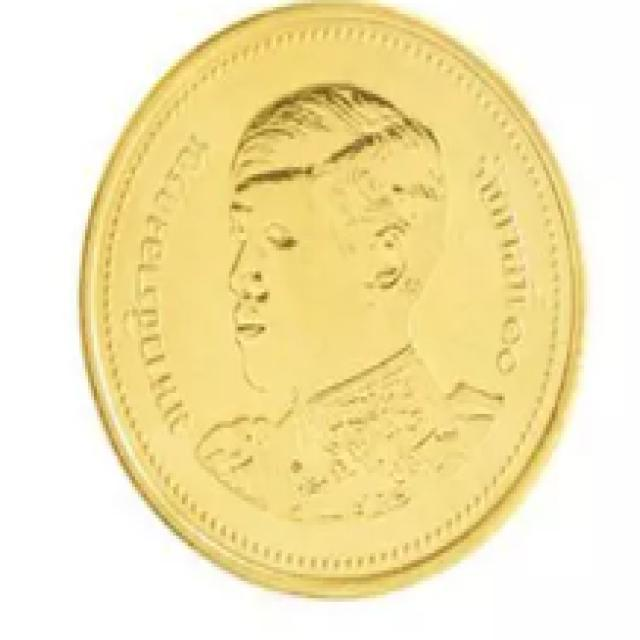2 Bath: (50, 1, 601, 623)
